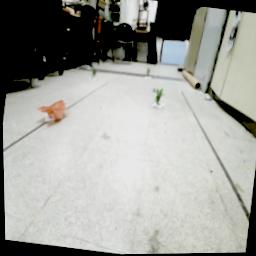herb: (149, 86, 166, 109), (88, 67, 98, 80)
wild: (34, 96, 70, 126)
